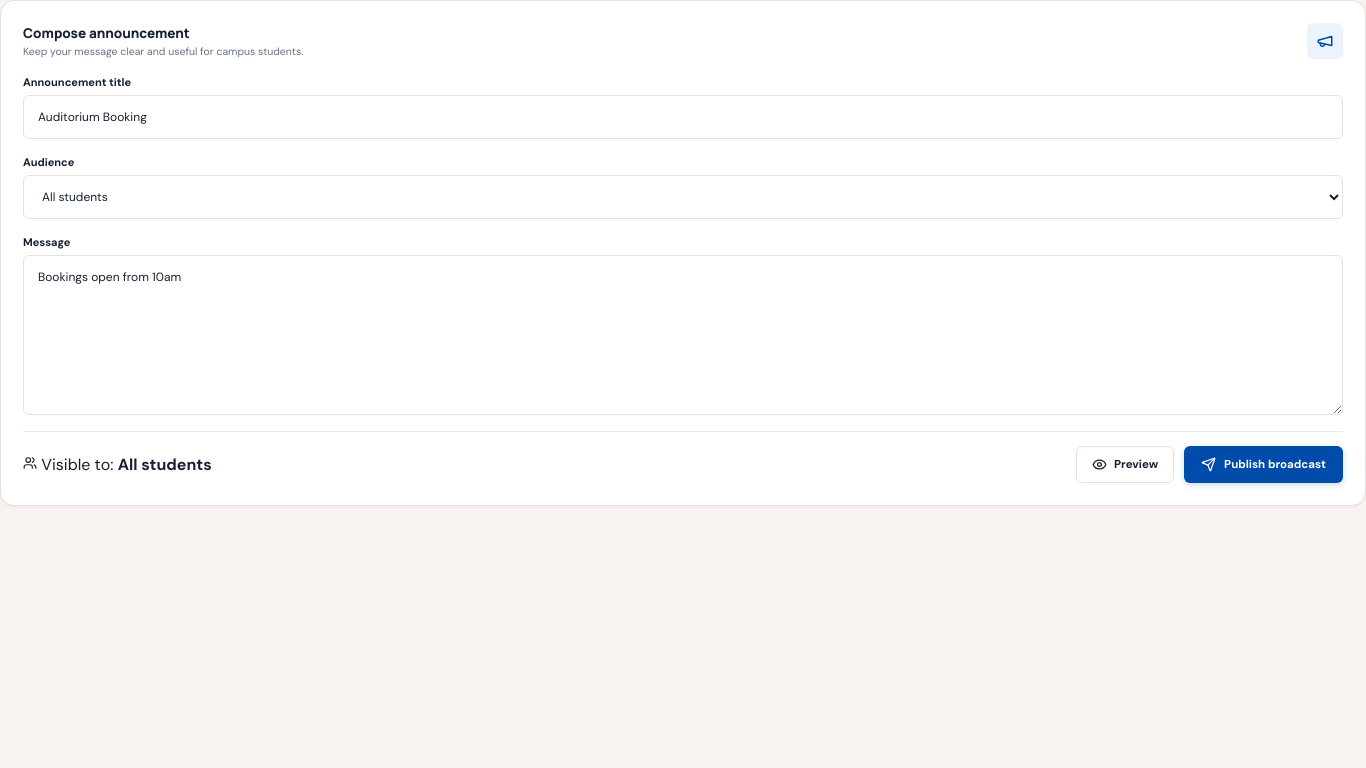
Test: Frontend Component Tests › BroadcastForm › opens and closes the preview modal when Preview button is clicked
What coordinates should you click on to do the following:
click the button "Preview"
I would click on:
 (1125, 465)
Its box is [1076,446,1174,483].
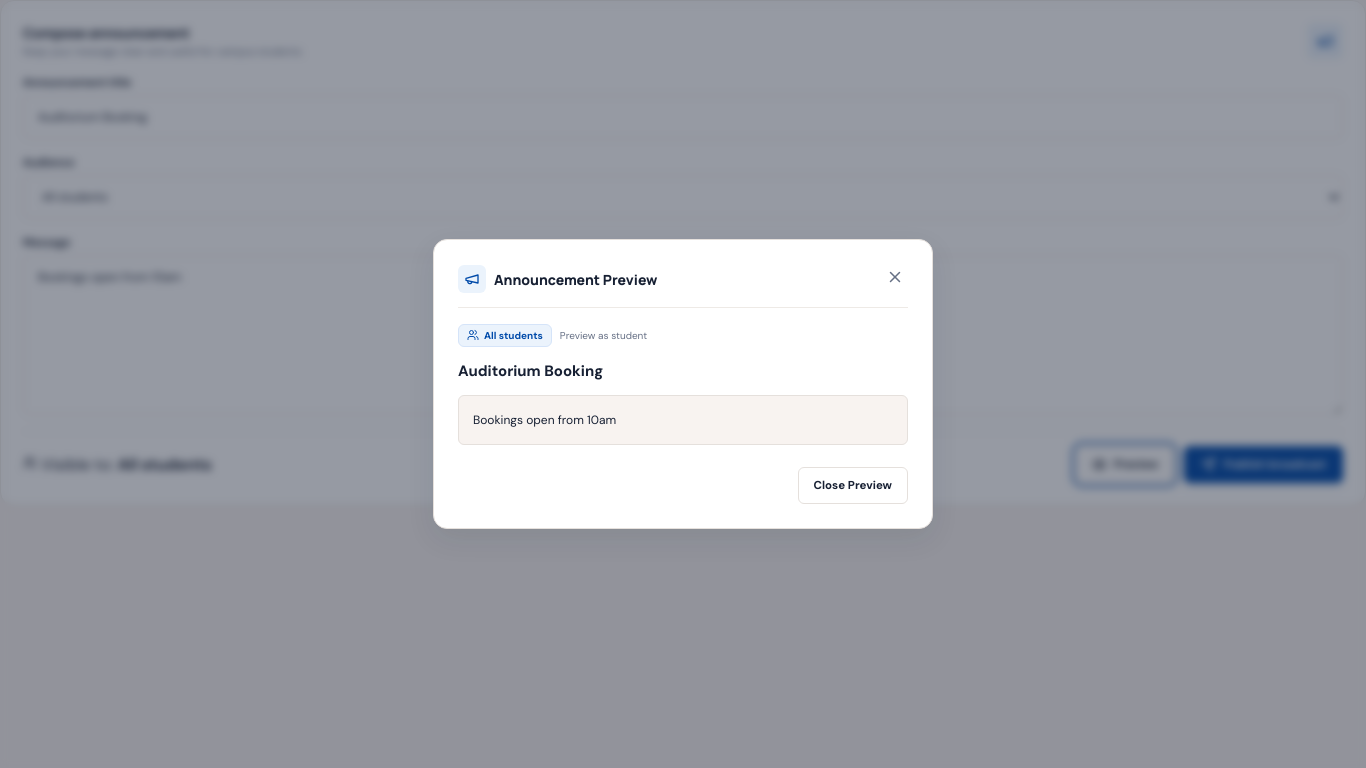
Expected: the dialog "Announcement Preview" is shown
Expected: the heading "Auditorium Booking" is shown, [458,361,603,381]
What coordinates should you click on to do the following:
click the button named "close preview modal"
I would click on:
 (895, 279)
Its box is [882,264,908,295].
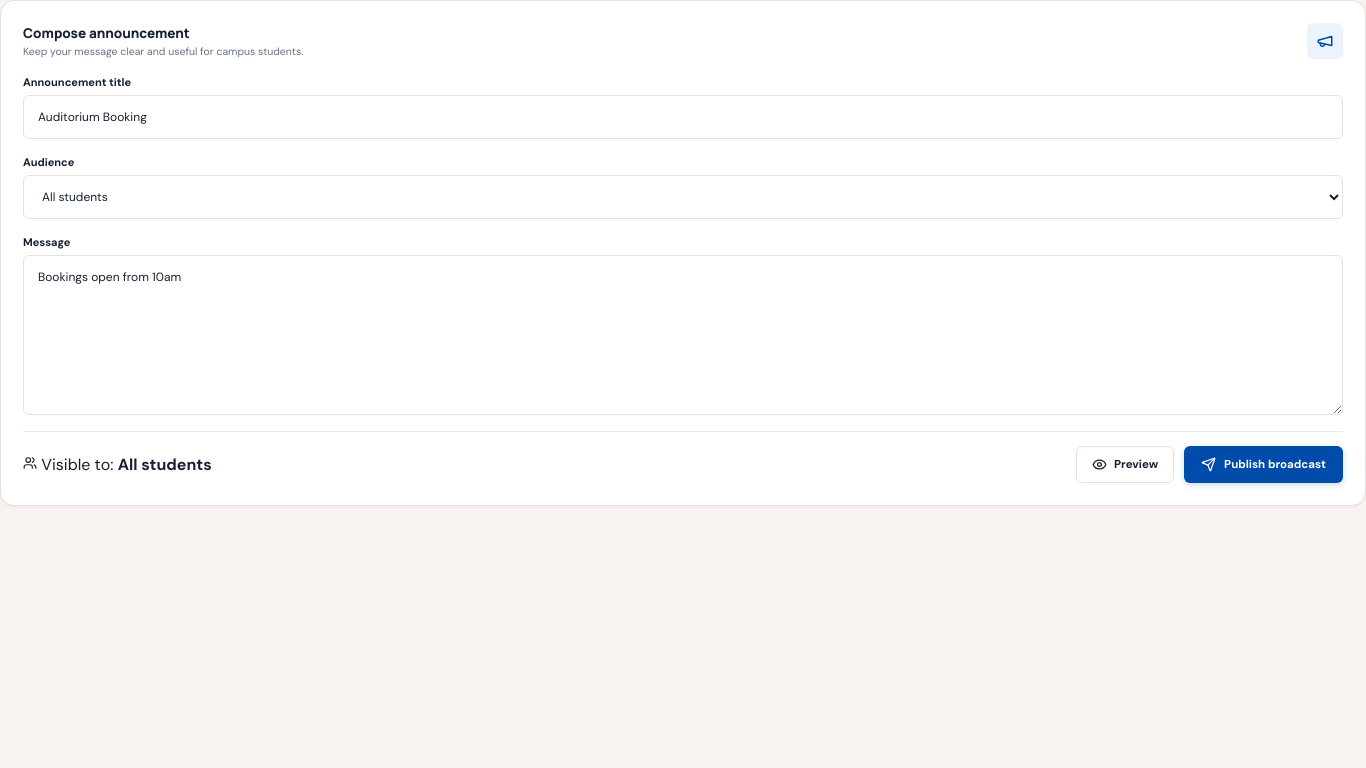
Expected: the heading "Announcement Preview" is gone
